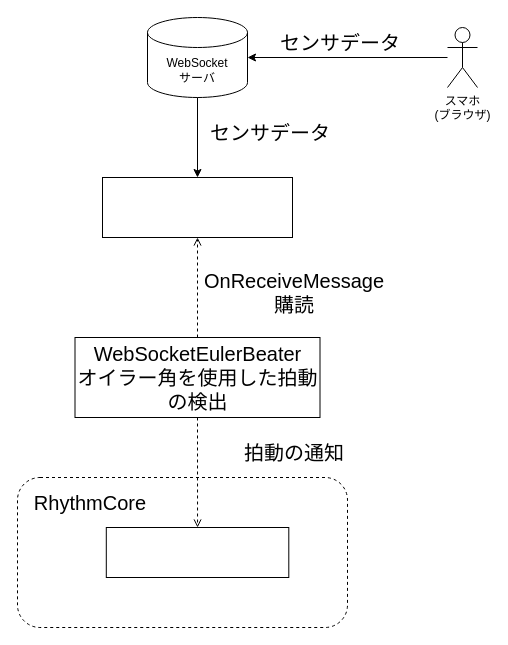
The diagram is 508 pixels wide and 645 high, and some of its shapes have lost their labels. The shapes that lost their labels are listed below. From the top down, each one's centre as x and y in pixels, then its label:
the point at 197,207: WebSocketReceiver
the point at 197,552: BeatMakerHolder
